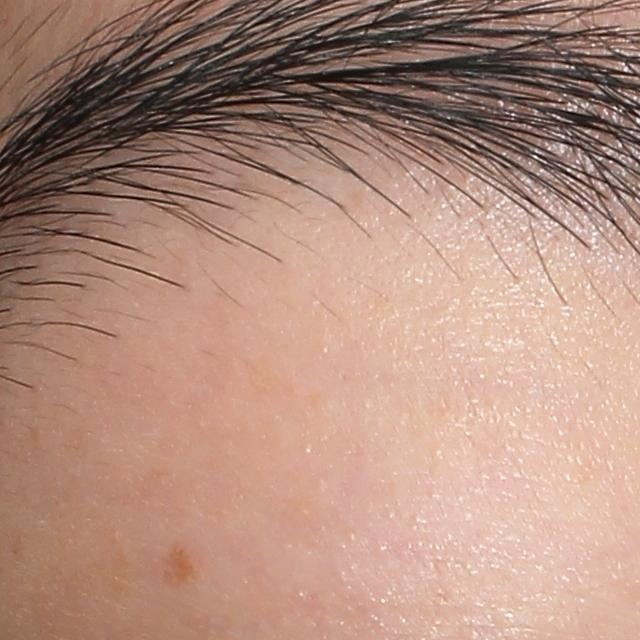melasma: (154, 528, 206, 594)
